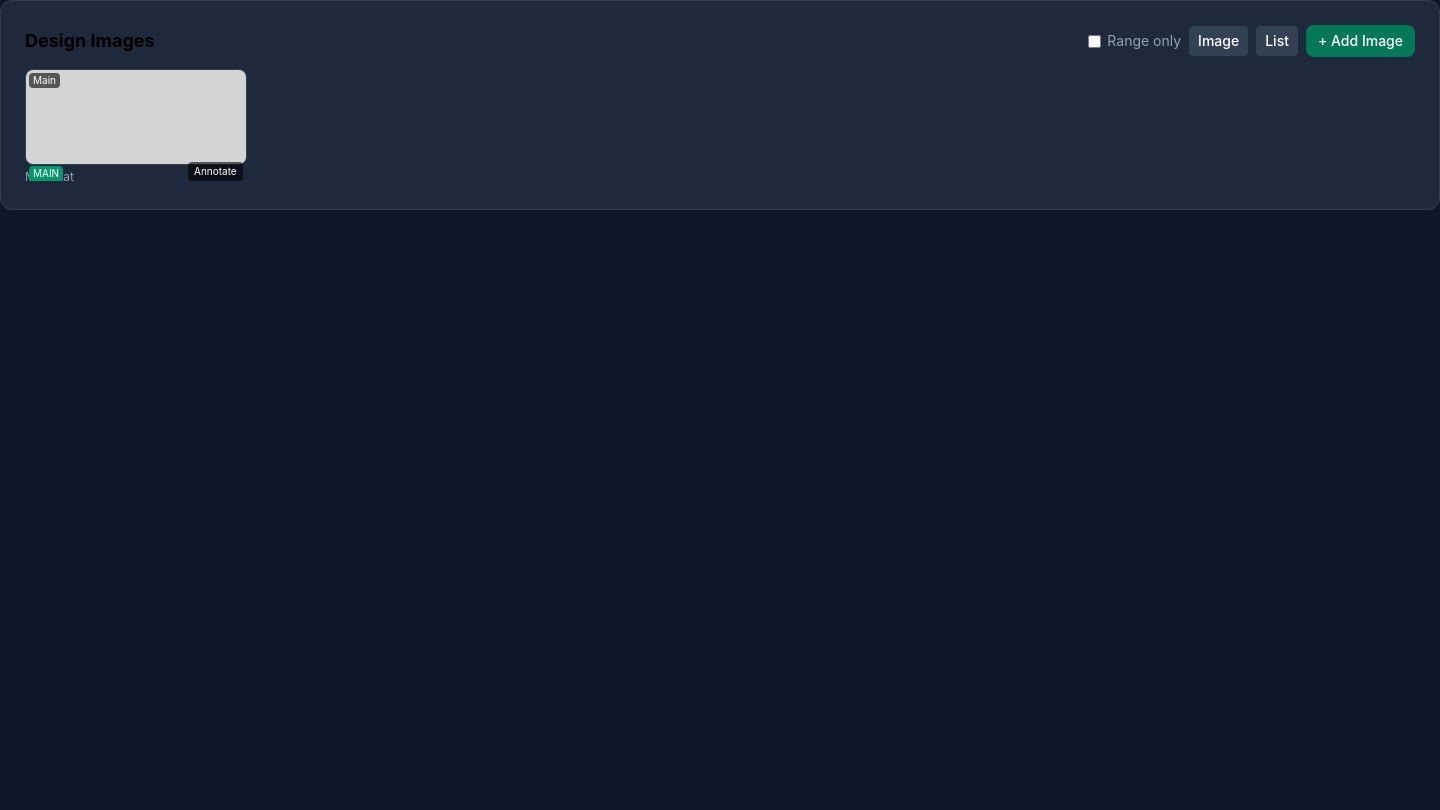
Test: DesignSheetImages › shows existing annotations inside the annotation dialog
The width and height of the screenshot is (1440, 810).
Click the button with test id "design-images-annotate-img-ann" at (215, 172), box [188,162,243,181]
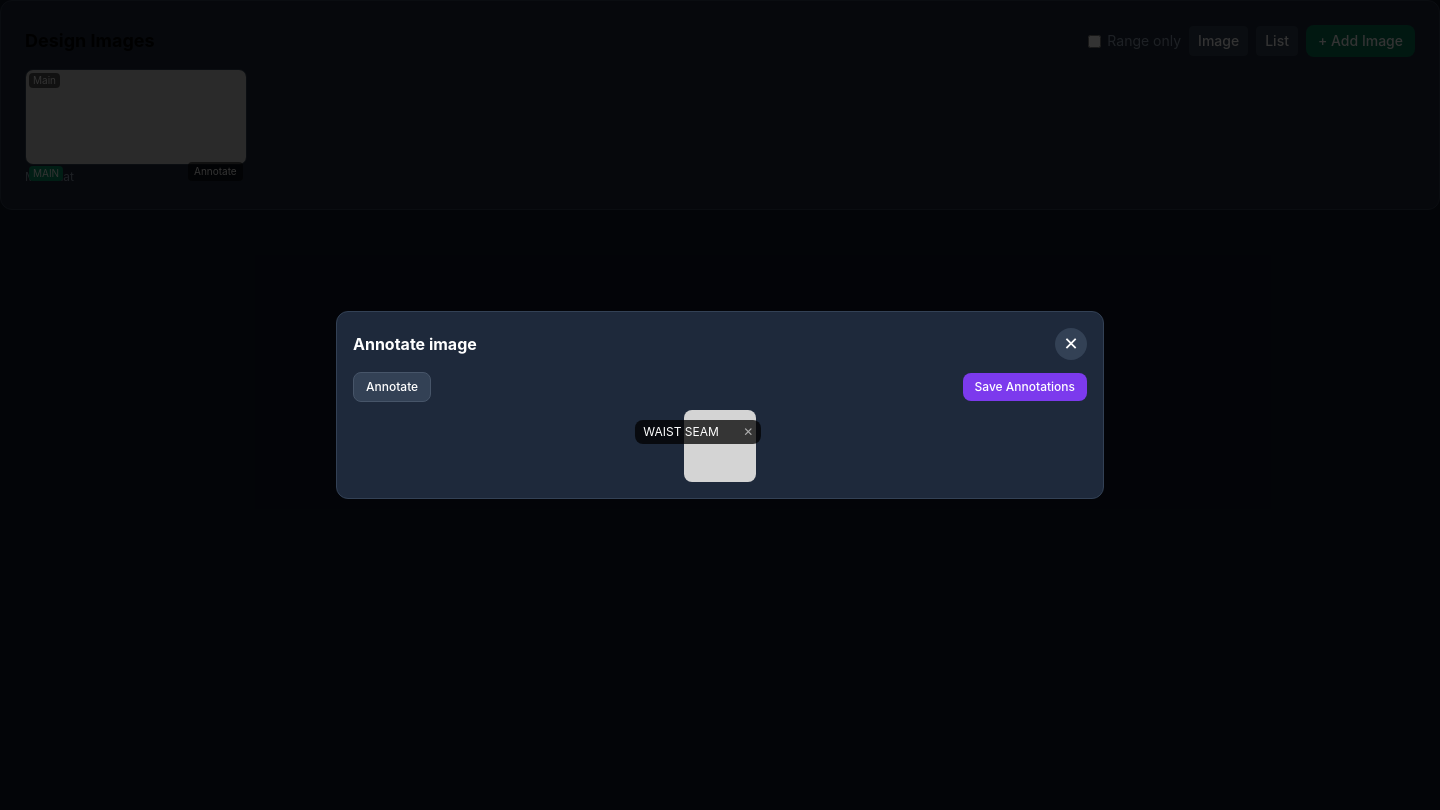
Expected: the field showing "WAIST SEAM" is shown, [643,424,739,440]
